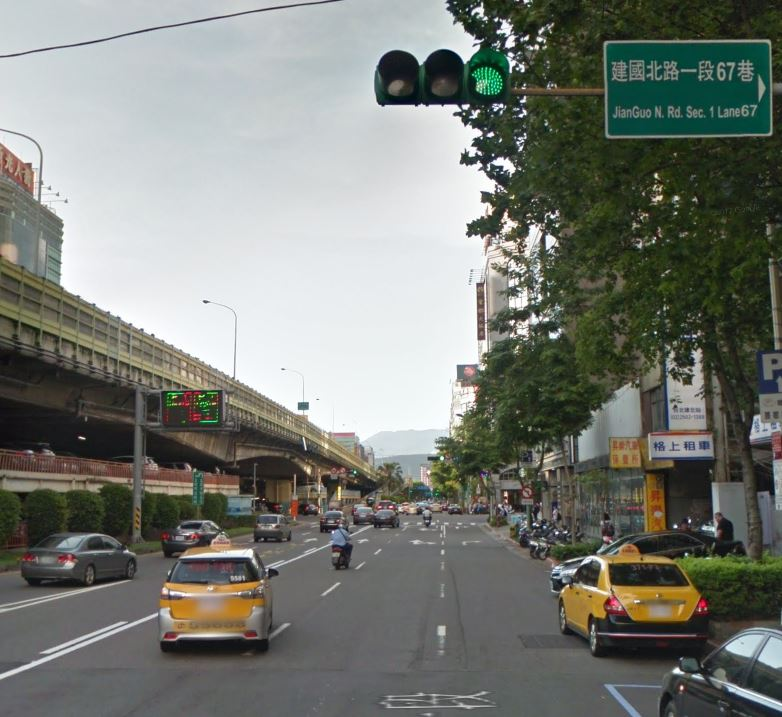Traffic_light_green: (373, 48, 510, 109)
car: (550, 539, 714, 659), (155, 533, 277, 657), (20, 525, 140, 588)
motorcycle: (330, 529, 352, 570)
